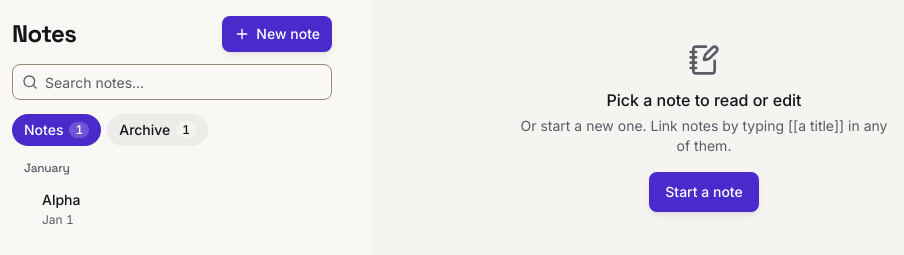
Test: NotesPage — the list › keeps archived notes out of the list, and in the archive
Click the button "Archive 1".
click(158, 130)  # box [107,114,208,146]
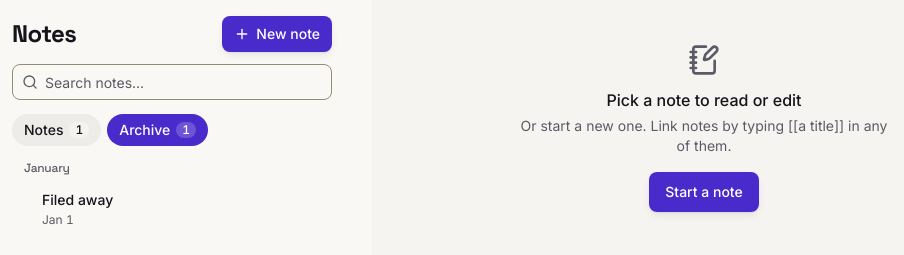
Expected: the button with aria-label "Open Filed away" is shown, [12,180,332,238]
